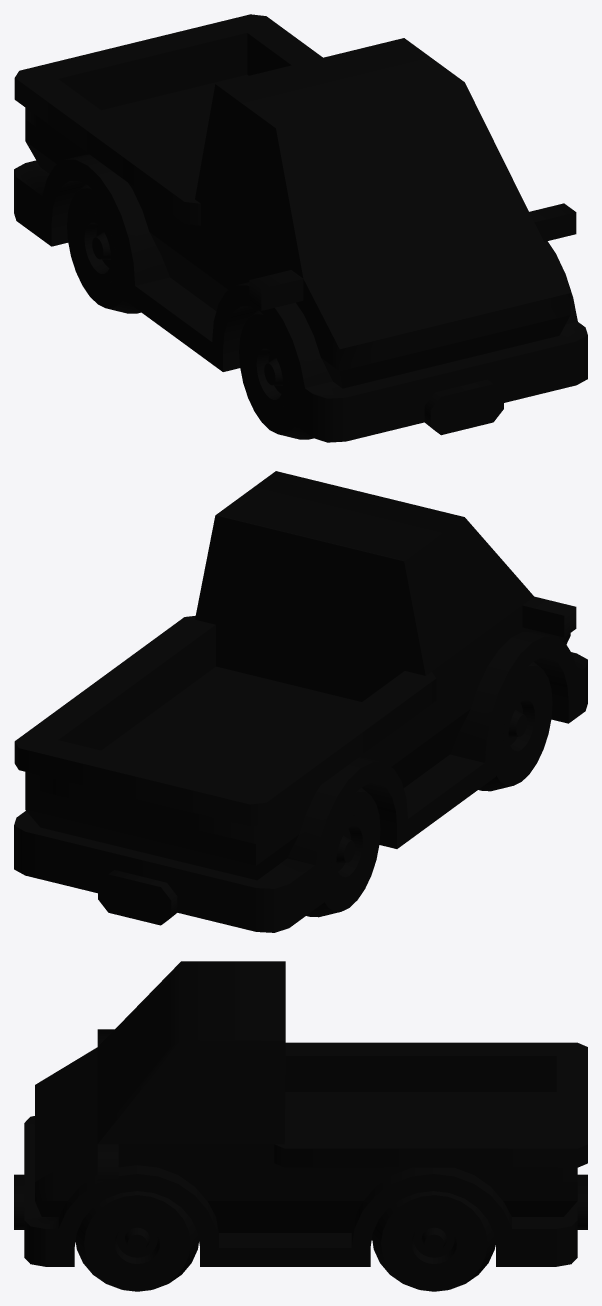
Rendered from truck-flat.glb.
3 renders of one model, top to bottom at view 1: azimuth 30°, elevation 25°; view 2: azimuth 150°, elevation 25°; view 3: azimuth 270°, elevation 25°, orthographic. The views are drawn at different scales.
Visible parts, largest first — view 1: body, wheel-front-right (×2); view 2: body, wheel-front-right (×2); view 3: body, wheel-front-left (×2).
Boxes of the visible parts, x1,y1,x2,y2 form: body: [14, 14, 587, 442]; wheel-front-right (×2): [67, 184, 313, 439]; body: [14, 471, 587, 932]; wheel-front-right (×2): [306, 662, 552, 917]; body: [14, 961, 587, 1266]; wheel-front-left (×2): [75, 1191, 495, 1291].
Size of the model in its own units: 1.5 by 1.3 by 2.75.
Materials: 1 (1 with a texture image).
